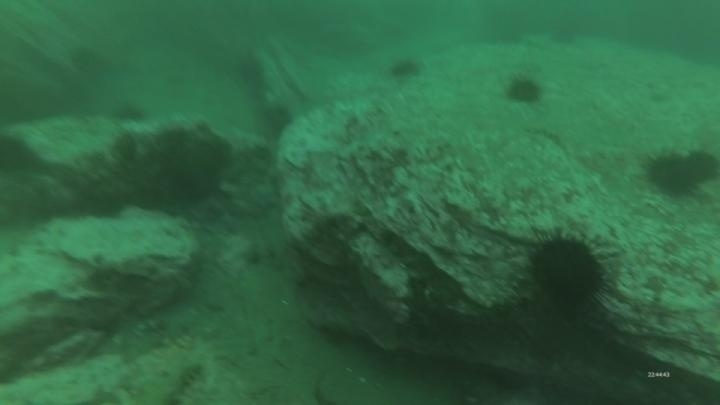echinus: (525, 230, 611, 313), (643, 149, 702, 200), (682, 147, 720, 186), (259, 102, 295, 142), (503, 73, 545, 107), (234, 52, 267, 90), (387, 55, 424, 84), (110, 99, 149, 126), (546, 20, 582, 48)
holothurian: (141, 359, 207, 405)
